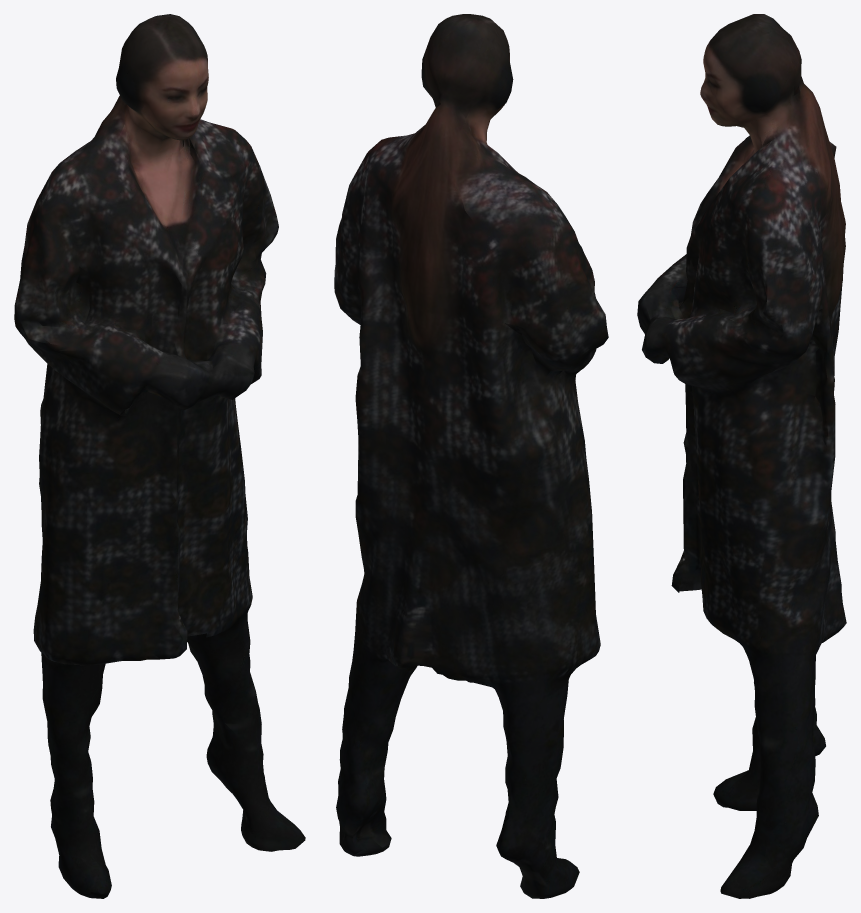
File: evercoast.0010.gltf
3 renders of one model, left to right at view 1: azimuth 30°, elevation 25°; view 2: azimuth 150°, elevation 25°; view 3: azimuth 270°, elevation 25°, orthographic. The views are drawn at different scales.
Visible parts, largest first — view 1: HIGH; view 2: HIGH; view 3: HIGH.
Boxes of the visible parts, <box> form: HIGH: <box>14,14,305,898</box>; HIGH: <box>334,14,608,898</box>; HIGH: <box>637,14,846,898</box>.
Size of the model in its own units: 0.6125 by 1.84 by 0.422.
Materials: 1 (1 with a texture image).
